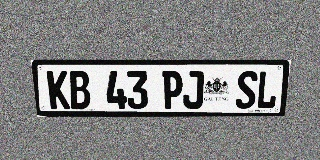3: (127, 71, 148, 109)
4: (105, 71, 127, 109)
B: (68, 71, 91, 109)
J: (183, 71, 204, 109)
K: (47, 71, 70, 109)
L: (256, 71, 279, 109)
P: (162, 71, 183, 109)
S: (235, 71, 258, 109)
